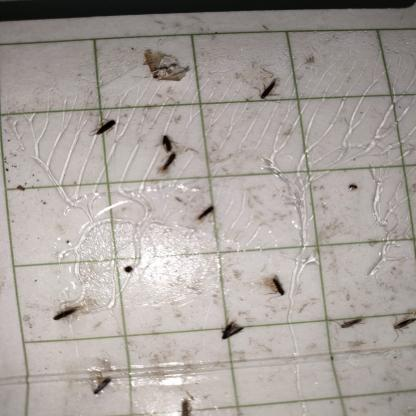prays_oleae: (45, 288, 90, 336), (207, 304, 248, 355), (83, 105, 121, 155), (248, 66, 282, 115), (337, 300, 370, 345), (262, 265, 296, 308), (84, 367, 121, 403), (189, 195, 217, 235), (391, 310, 416, 352), (157, 126, 181, 158), (156, 155, 181, 179), (174, 393, 194, 415)
